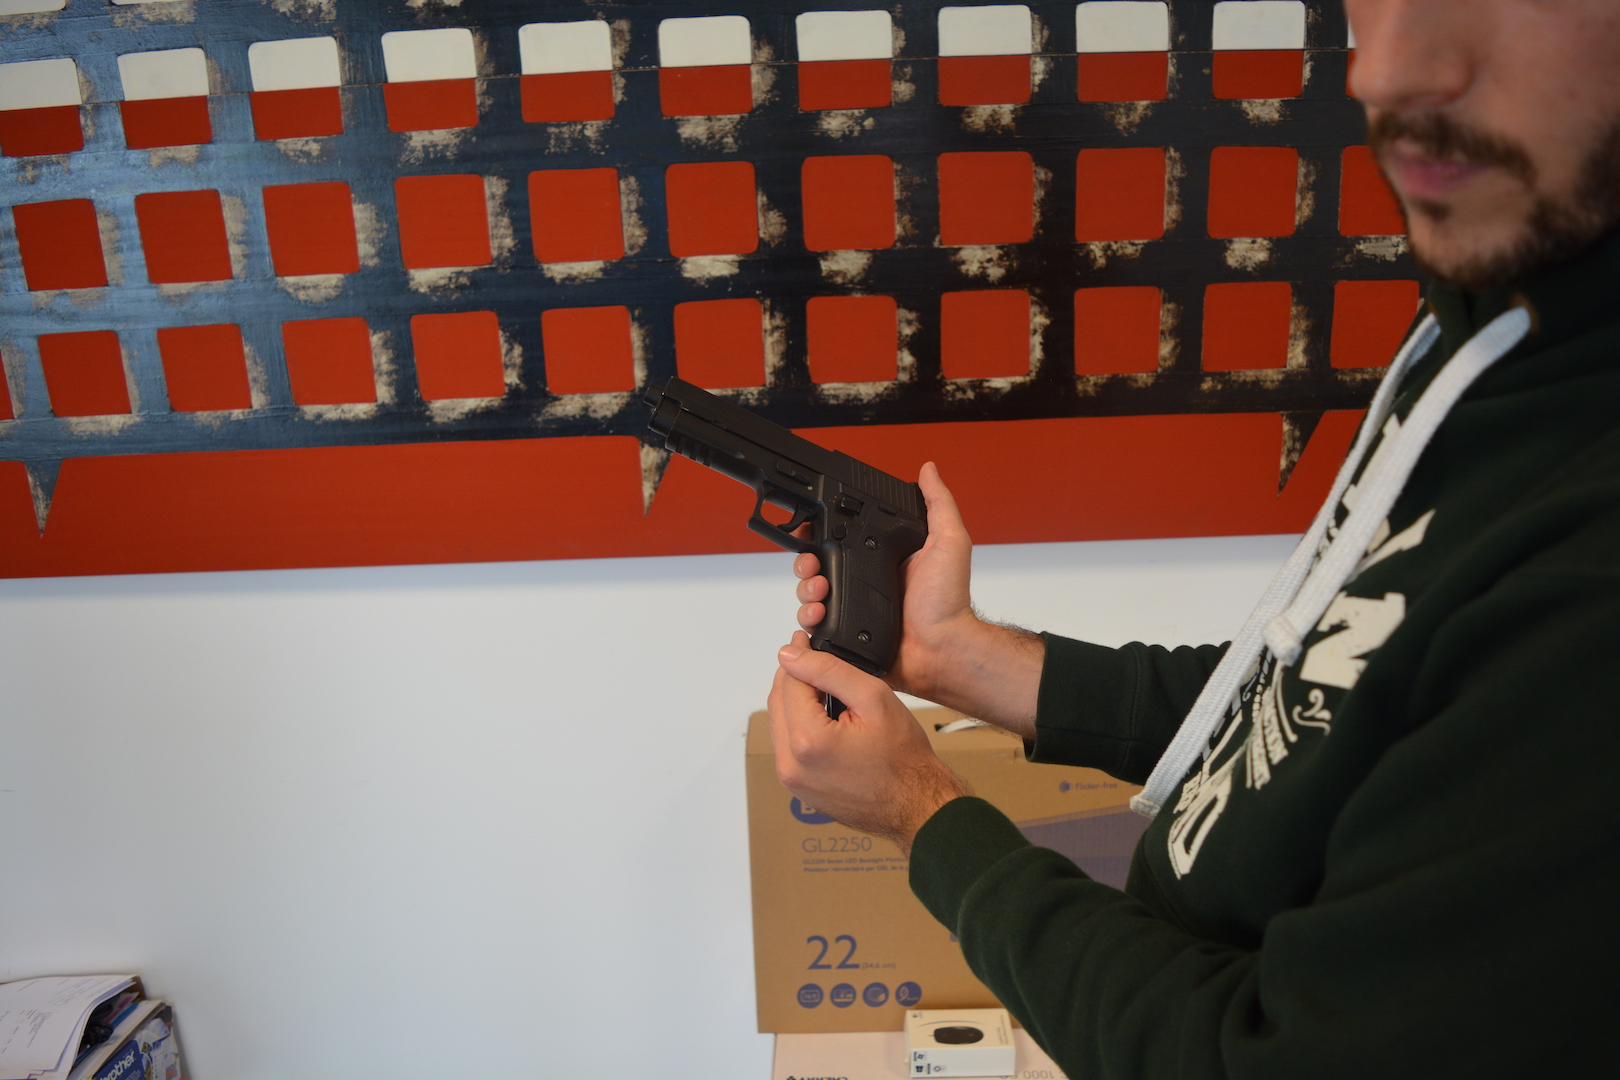pistol: (642, 376, 931, 682)
